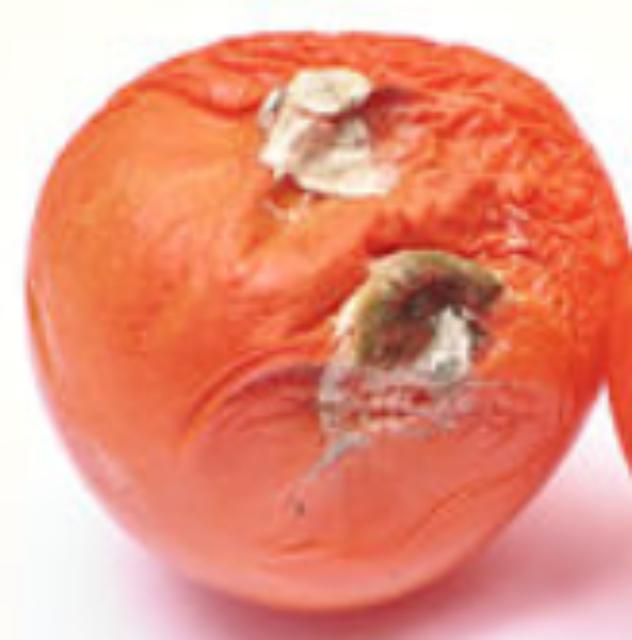defect: (11, 19, 632, 616)
